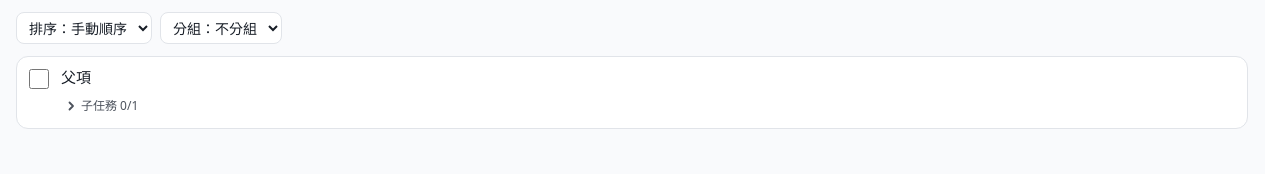
Test: TaskListView.vue › 子任務：資料層一直支援，現在畫面上也走得到 › 展開後才看得到子項，收合狀態預設不展開
Expected: the text "子項" is not shown
Click the button "子任務 0/1" at (102, 106), box [61, 95, 142, 117]
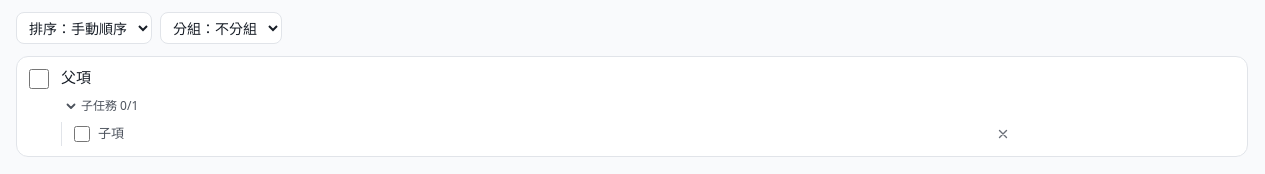
Result: the text "子項" is shown at [98, 124, 124, 142]
